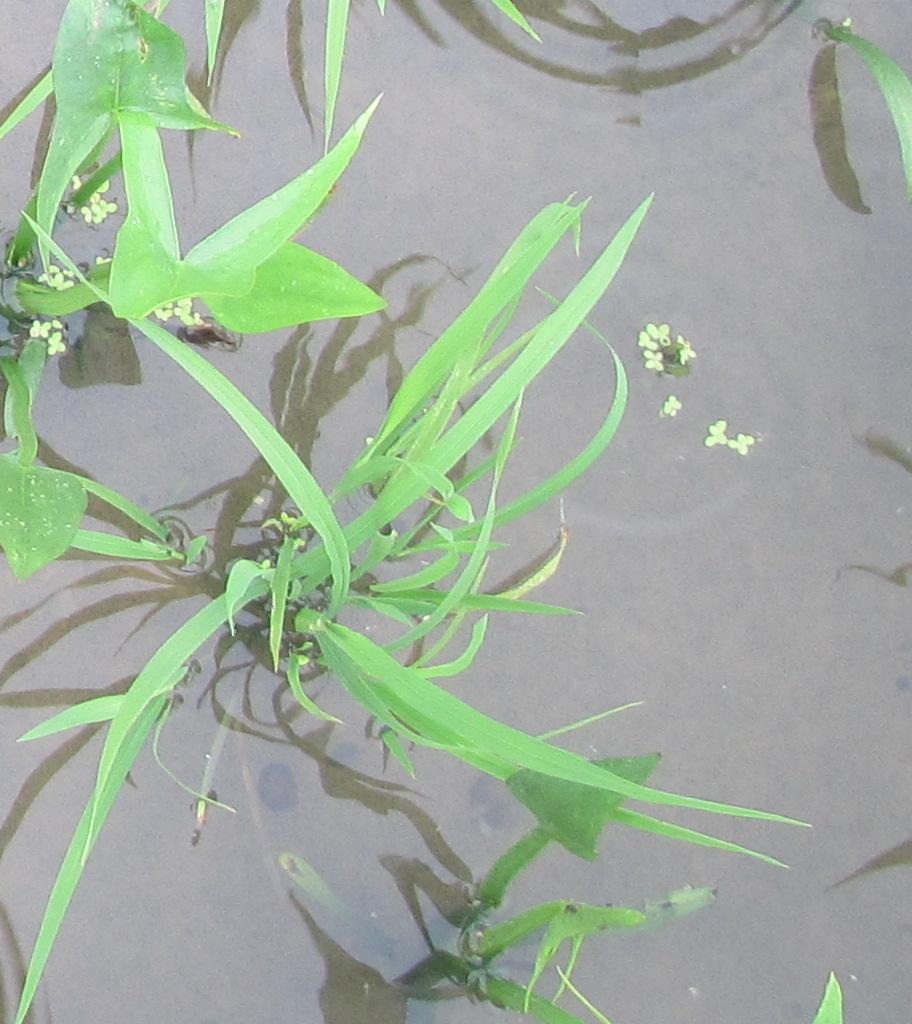Weed: (110, 202, 384, 342), (50, 8, 220, 141), (193, 135, 195, 141)
